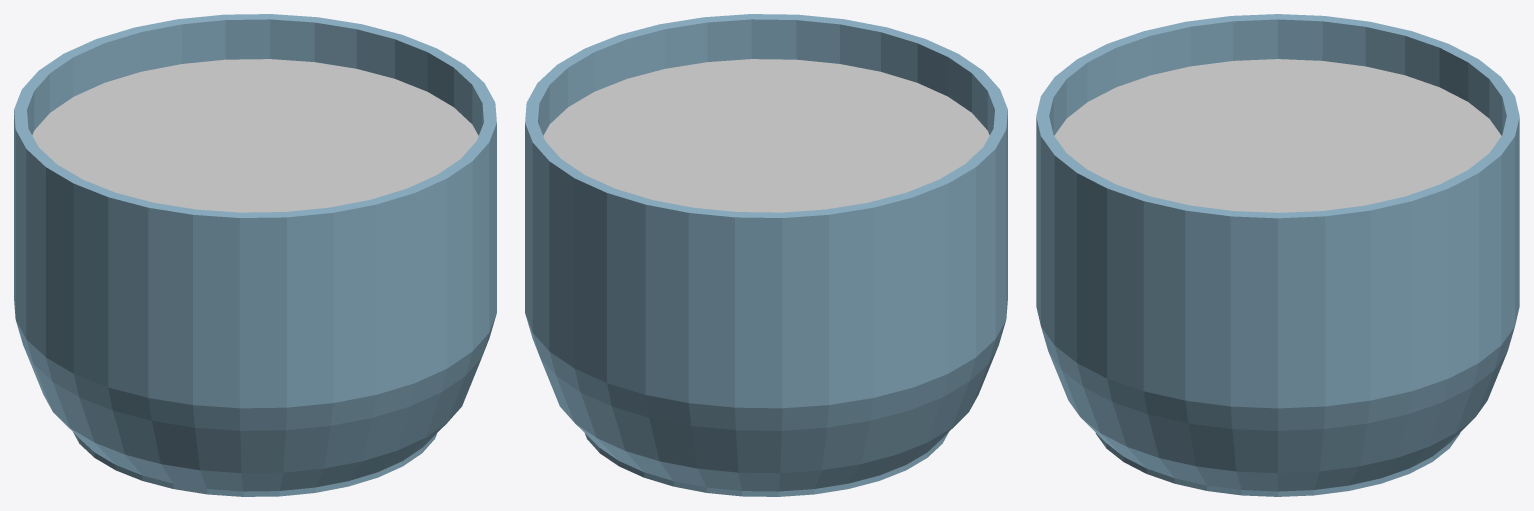
Rendered from yogurt.fbx.
3 renders of one model, left to right at view 1: azimuth 30°, elevation 25°; view 2: azimuth 150°, elevation 25°; view 3: azimuth 270°, elevation 25°, orthographic.
Visible parts, largest first — view 1: Yogurt; view 2: Yogurt; view 3: Yogurt.
Part boxes in pixels (bbox=[...]): Yogurt: bbox=[14, 14, 496, 496]; Yogurt: bbox=[525, 14, 1007, 496]; Yogurt: bbox=[1036, 14, 1519, 496].
Size of the model in its own units: 1.02 by 0.7015 by 1.02.
